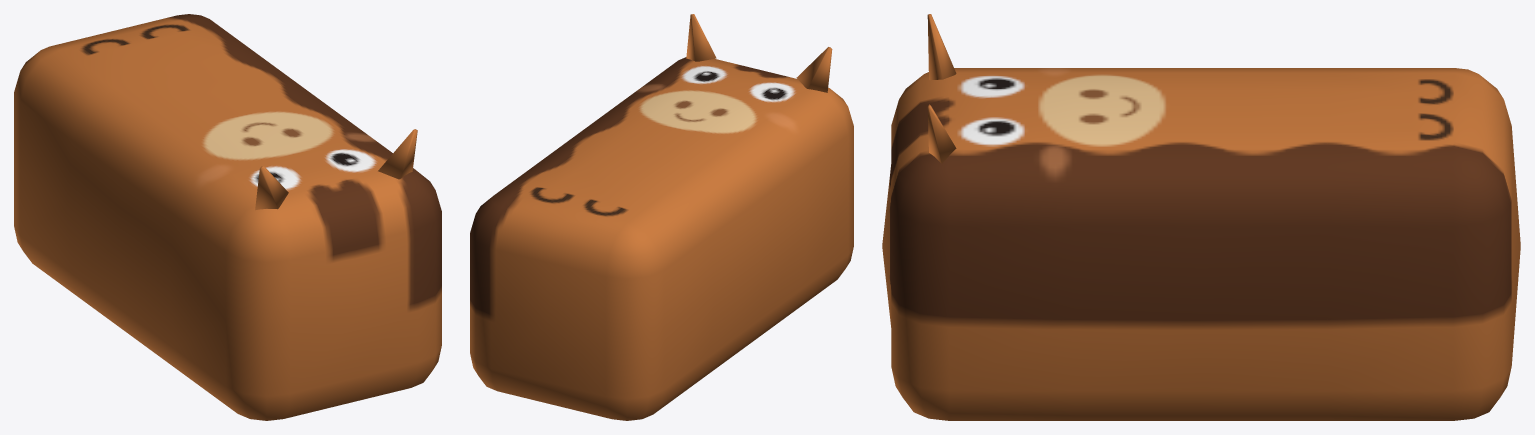
File: Horse_2x1.fbx
3 views of the same model, side by side, from view 1: azimuth 30°, elevation 25°; view 2: azimuth 150°, elevation 25°; view 3: azimuth 270°, elevation 25° (orthographic). The views are drawn at different scales.
Visible parts, largest first — view 1: Horse_2x1; view 2: Horse_2x1; view 3: Horse_2x1.
Part boxes in pixels (left/top/right/bottom): Horse_2x1: left=14, top=14, right=441, bottom=420; Horse_2x1: left=470, top=14, right=853, bottom=420; Horse_2x1: left=882, top=14, right=1520, bottom=420.
Size of the model in its own units: 0.976 by 1.04 by 1.98.
1 material, 1 textured.
